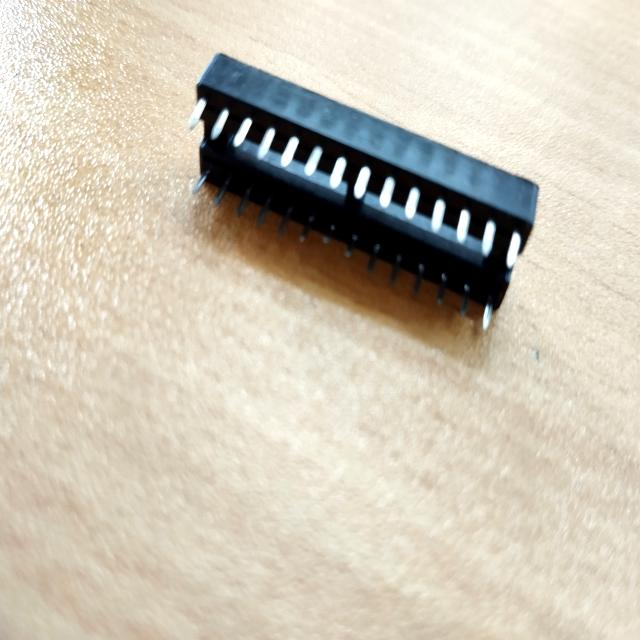IC-Base-28-Pin: (166, 27, 546, 373)
